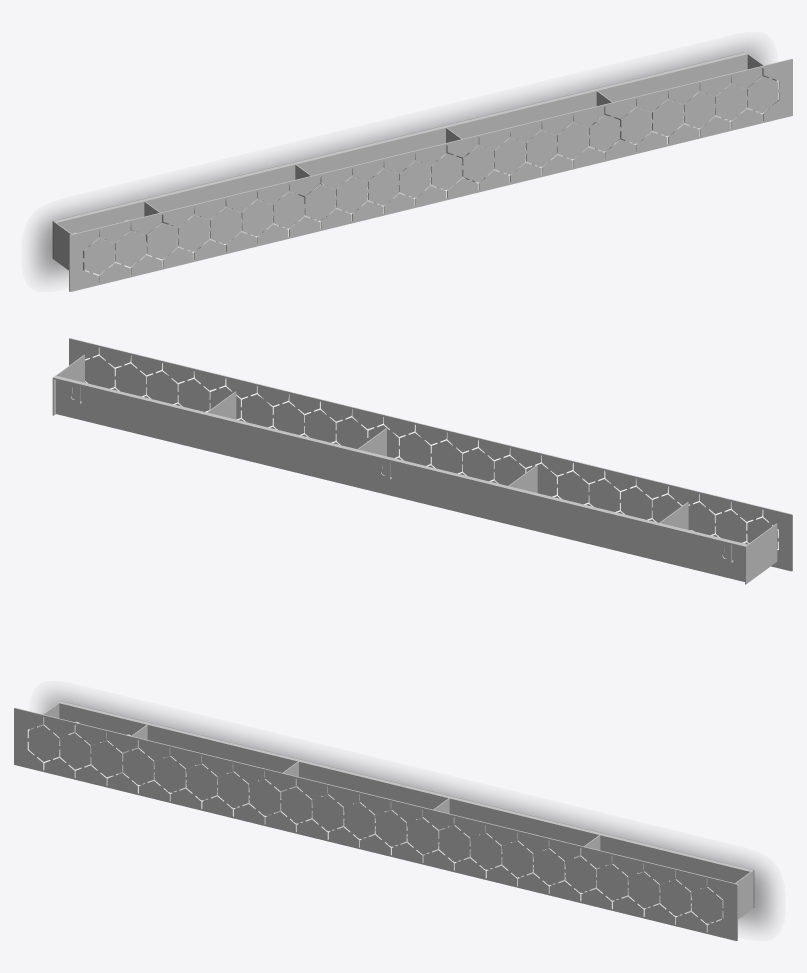
The model's file is bee-patron.4fb214f75e.ar.glb.
3 renders of one model, top to bottom at view 1: azimuth 30°, elevation 25°; view 2: azimuth 150°, elevation 25°; view 3: azimuth 330°, elevation 25°, orthographic.
Visible parts, largest first — view 1: NAUO1, object 2; view 2: NAUO1; view 3: NAUO1, object 2.
Part boxes in pixels (bbox=[...]): NAUO1: bbox=[52, 52, 792, 291]; object 2: bbox=[33, 45, 765, 278]; NAUO1: bbox=[52, 338, 792, 584]; NAUO1: bbox=[14, 701, 754, 940]; object 2: bbox=[41, 694, 773, 927].
Bounding box in the file's own units: 1.28 × 0.17 × 0.092.
2 materials, 1 textured.
